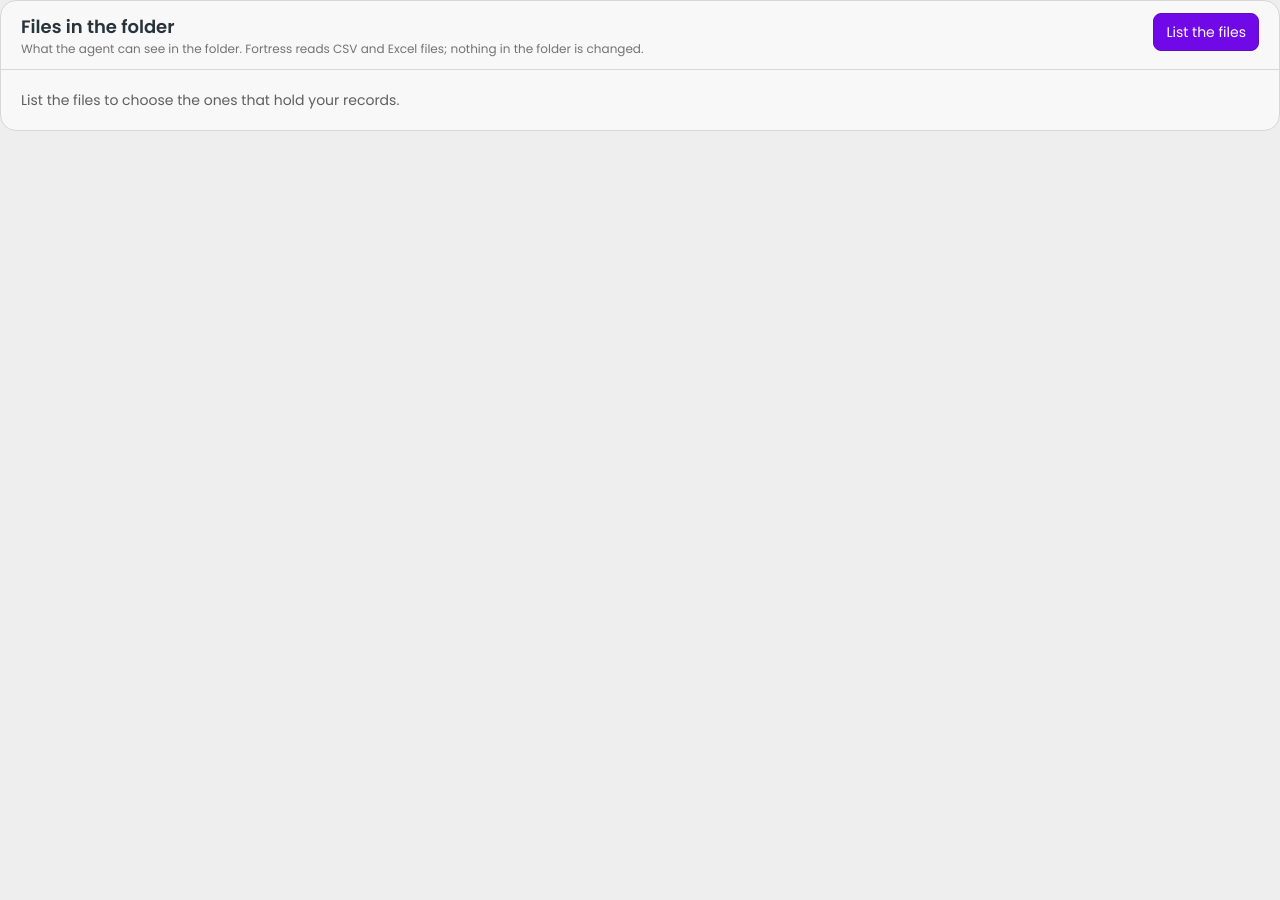
Test: files in a folder (AG5b) › lists the folder's files and uses a dated export as a pattern for a kind of record
Later steps or results of the test are not shown.
Click the button "List the files". click: {"x": 1206, "y": 32}
box: left=1153, top=13, right=1259, bottom=51
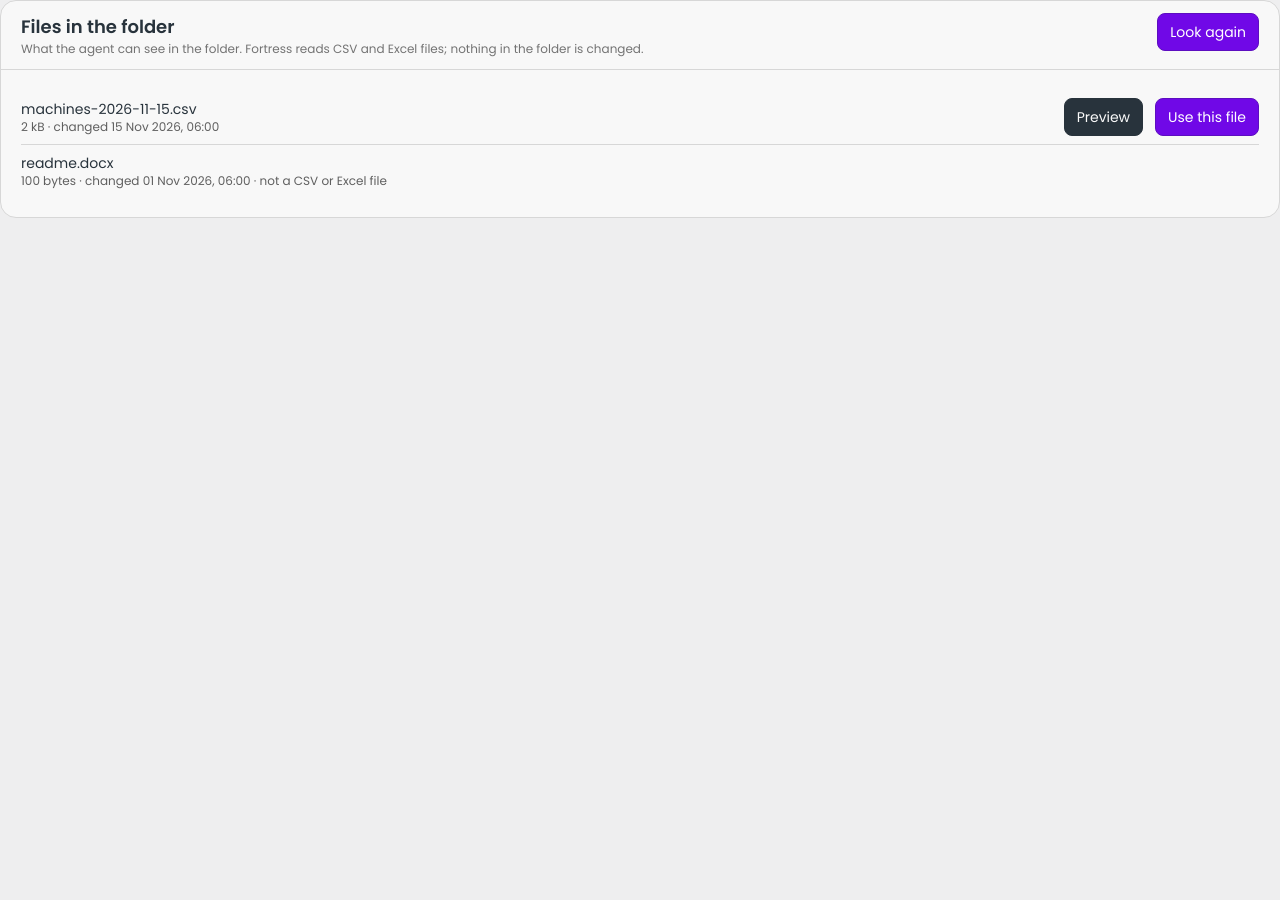
Check: the text "readme.docx" is shown, box left=21, top=153, right=114, bottom=173
Check: the text "not a CSV or Excel file" is shown, box left=251, top=172, right=387, bottom=189
Click the button with aria-label "Use machines-2026-11-15.csv". click: {"x": 1207, "y": 117}
box: left=1155, top=98, right=1259, bottom=136
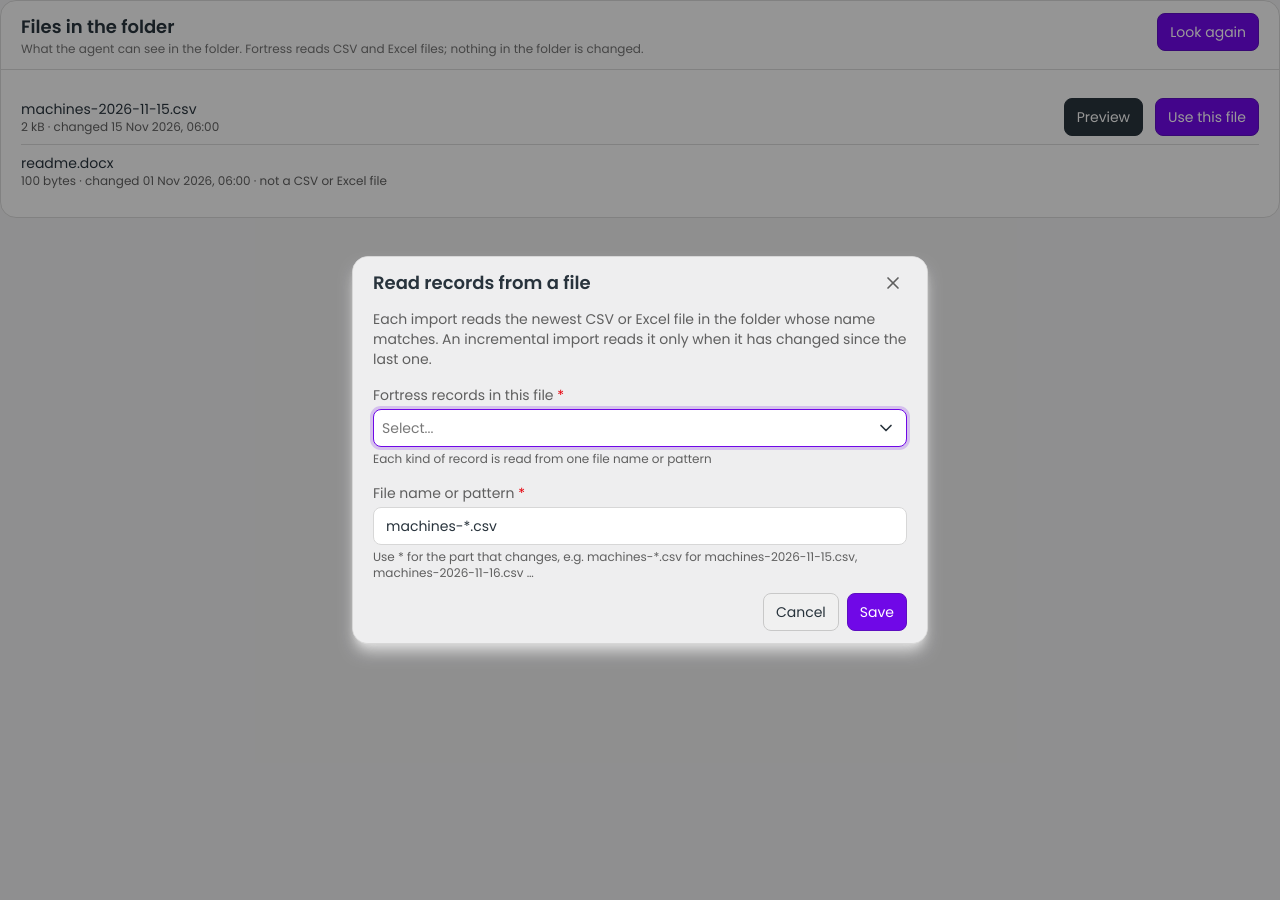
Check: the field labelled "File name or pattern" holds "machines-*.csv", box left=373, top=507, right=907, bottom=545
